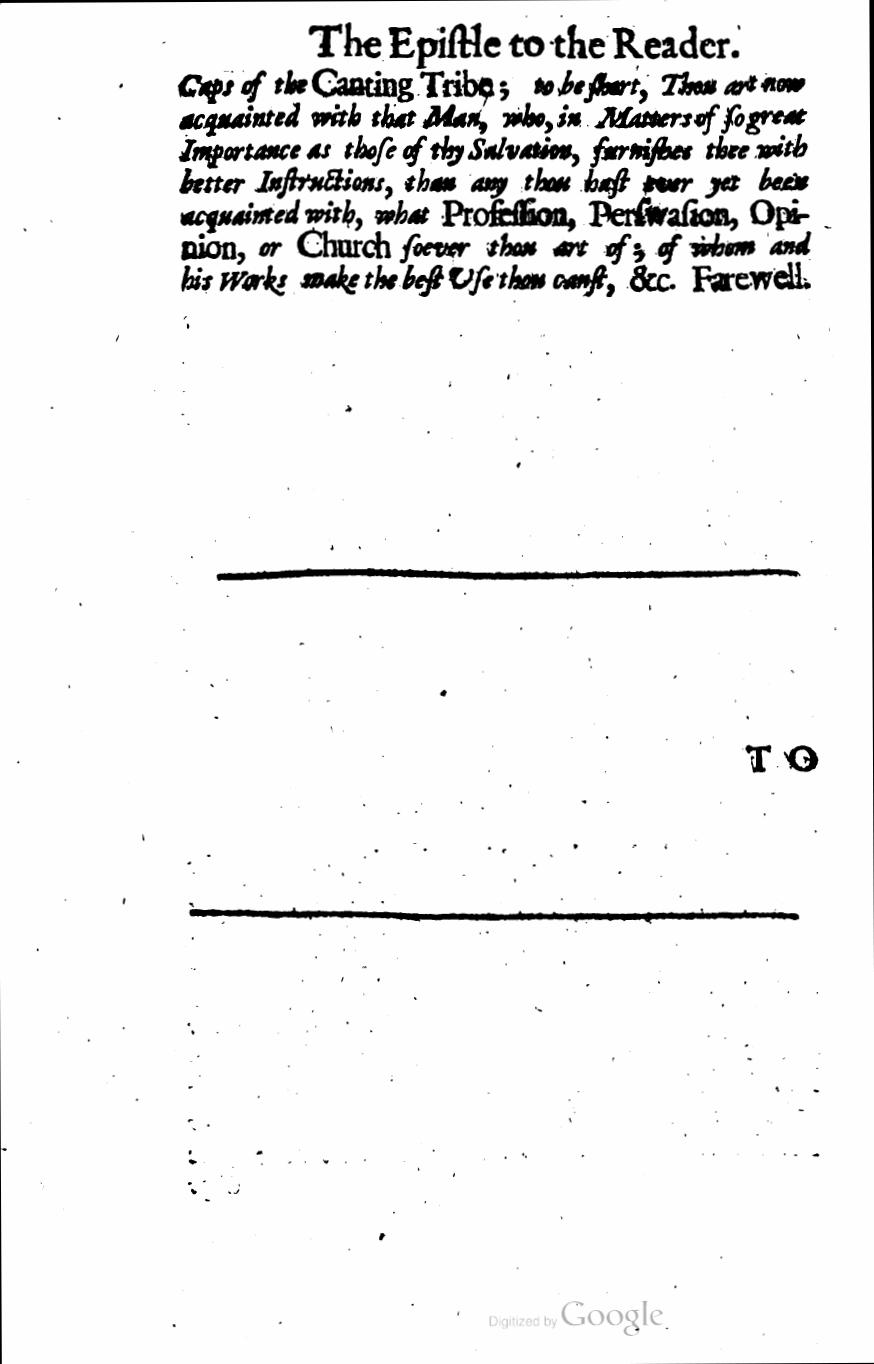bottom_p: (170, 70, 818, 308)
catchword: (742, 734, 822, 778)
header: (304, 14, 750, 66)
